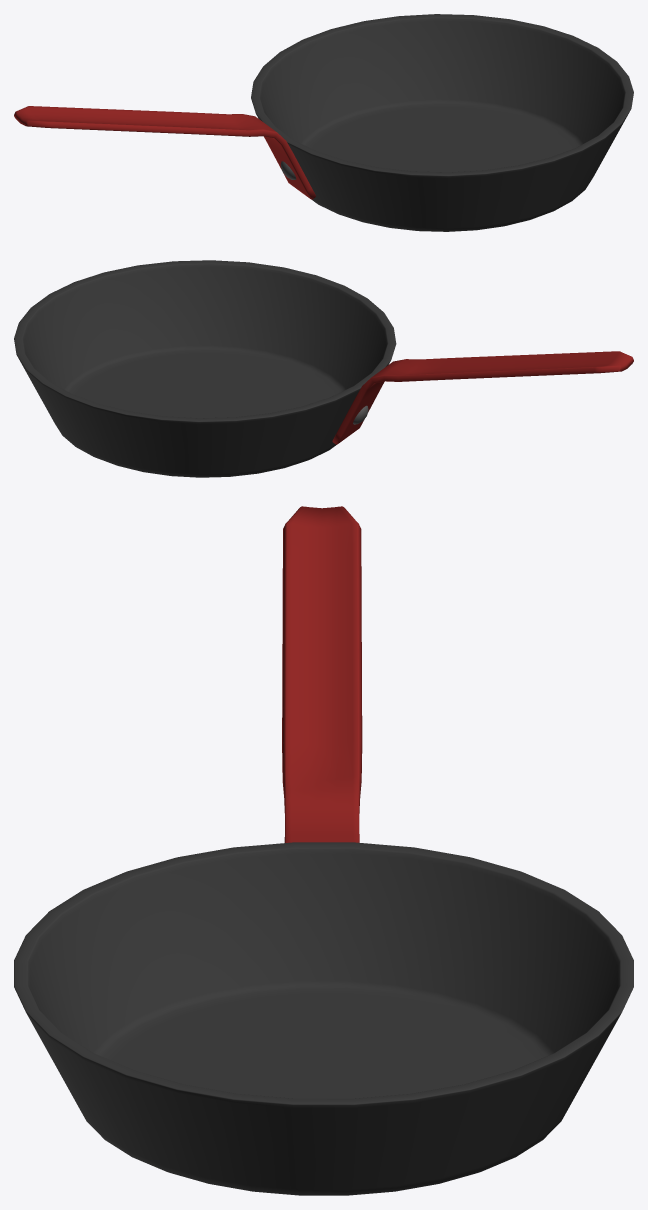
The model's file is Frying PanNEW.fbx.
3 views of the same model, one above another, from view 1: azimuth 30°, elevation 25°; view 2: azimuth 150°, elevation 25°; view 3: azimuth 270°, elevation 25° (orthographic). The views are drawn at different scales.
Parts seen in each view (by area): view 1: Pan, Holder; view 2: Pan, Holder; view 3: Pan, Holder.
Boxes of the visible parts, x1,y1,x2,y2 form: Pan: [251, 14, 633, 231]; Holder: [14, 106, 315, 199]; Pan: [14, 260, 396, 477]; Holder: [332, 351, 633, 444]; Pan: [14, 842, 633, 1195]; Holder: [282, 506, 362, 842].
Size of the model in its own units: 337 by 86.17 by 189.
